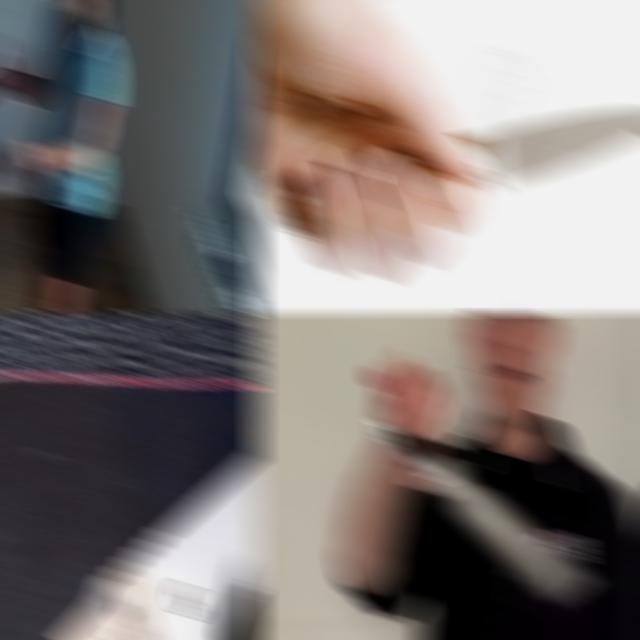Knife: (460, 106, 640, 187), (0, 3, 9, 59)
Knife_Handle: (250, 0, 640, 290), (367, 348, 596, 607)
